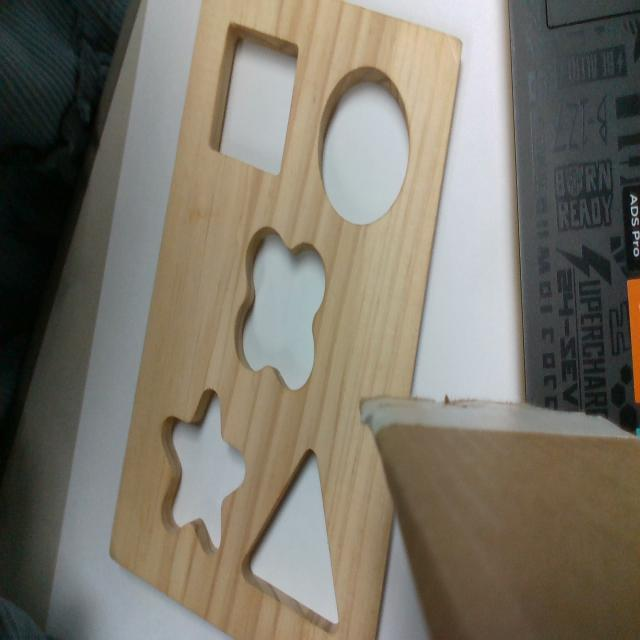circle: (319, 65, 410, 226)
flower: (235, 229, 327, 387)
square: (208, 22, 300, 176)
star: (162, 388, 246, 553)
triangle: (236, 441, 339, 635)
